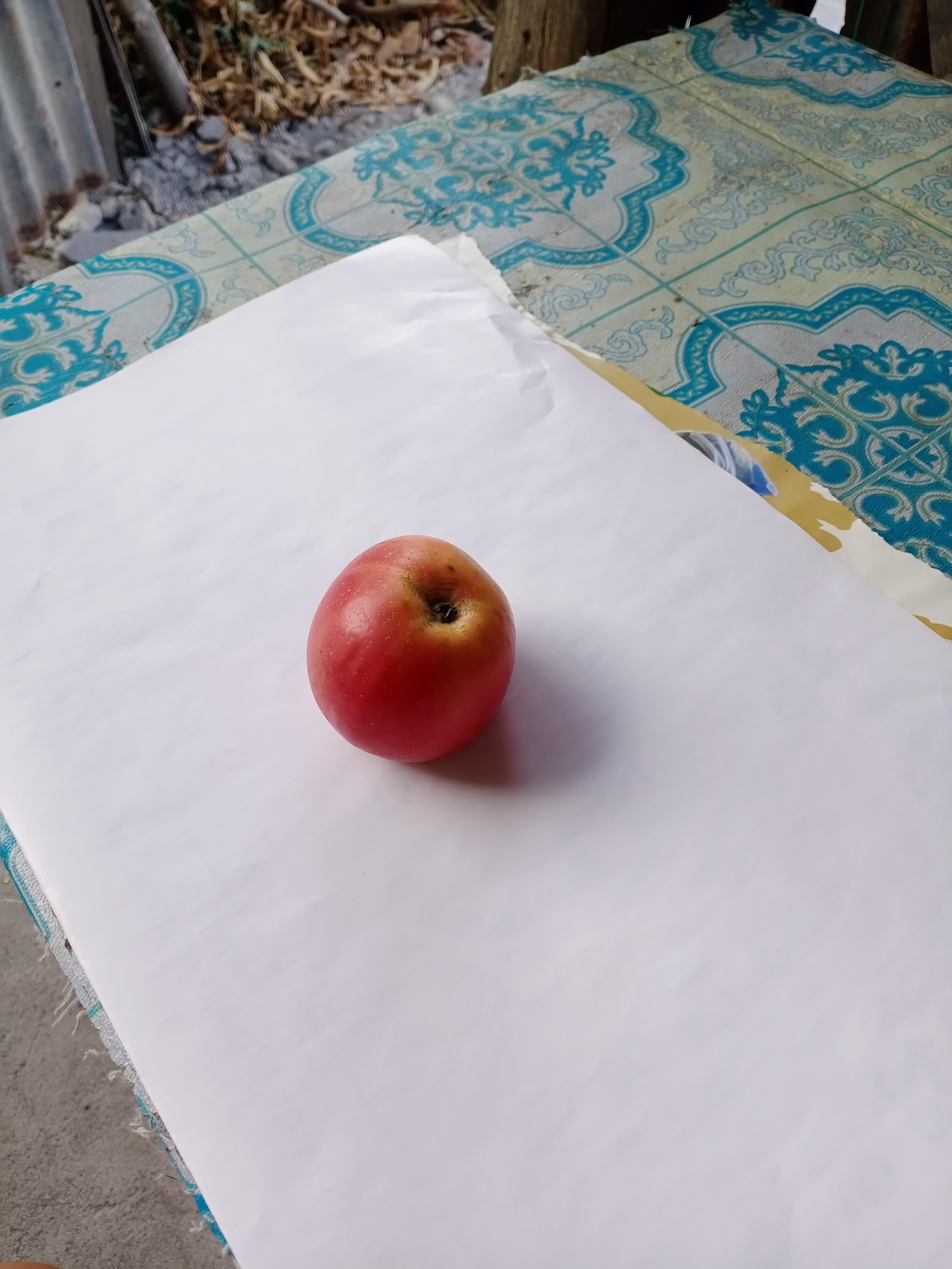Apple Ripe: (287, 526, 545, 768)
